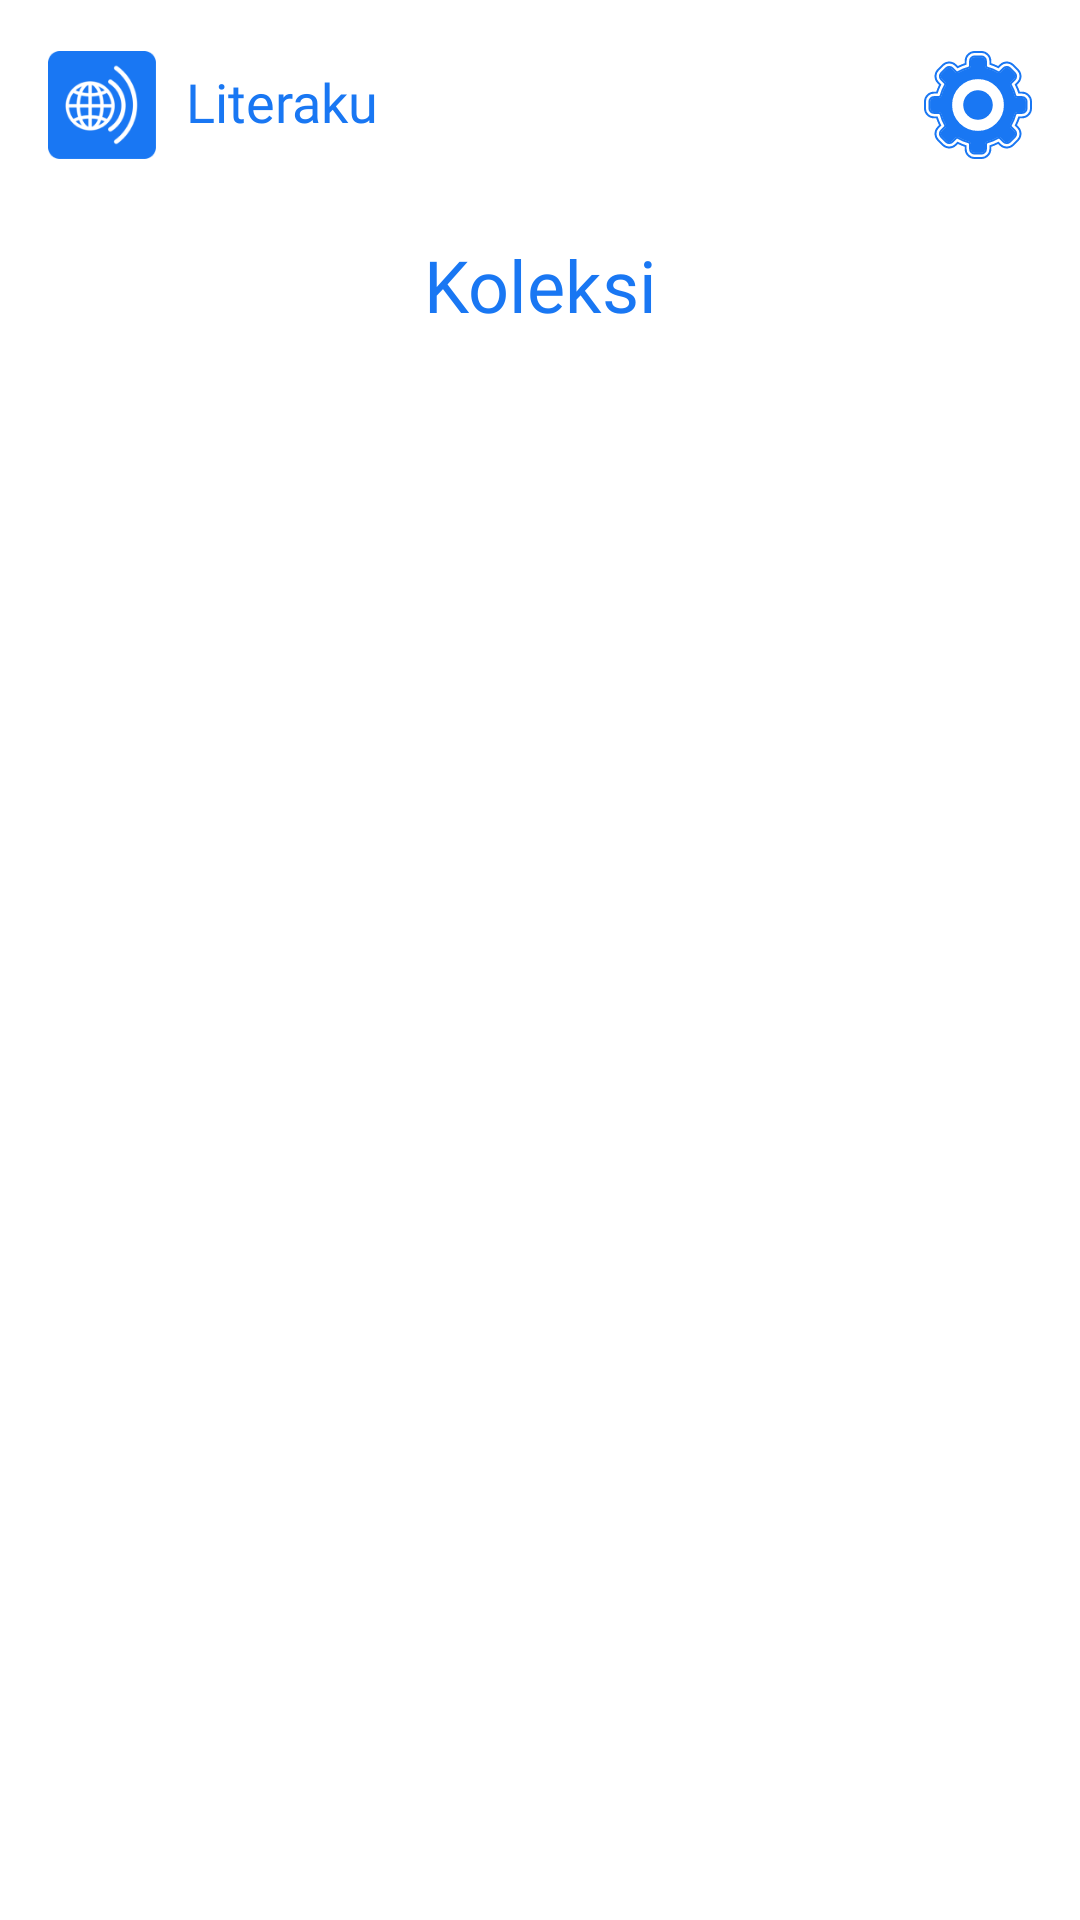

Named icons in this screenshot (1080px×1920px) and their bounding boxes, bbox=(x1, y1, x2, y2):
ltk settings: bbox=(924, 51, 1032, 159)
